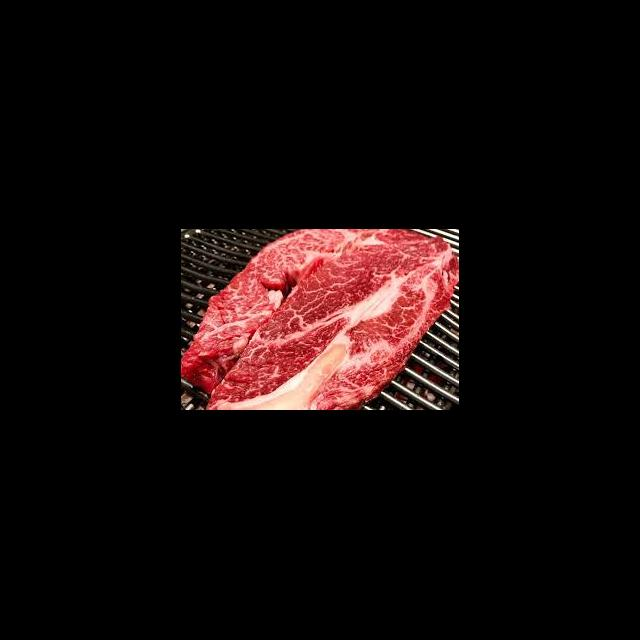beef: (181, 230, 459, 410)
